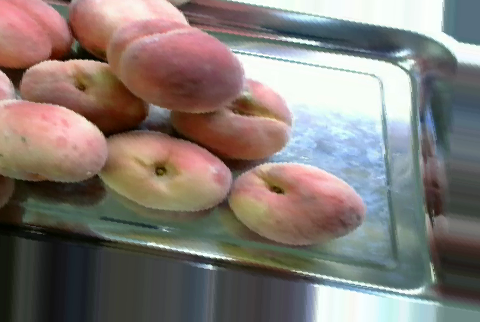Peach: (104, 16, 241, 112), (98, 129, 238, 210), (230, 161, 363, 245), (174, 77, 291, 163), (0, 95, 107, 184), (19, 58, 148, 130)
